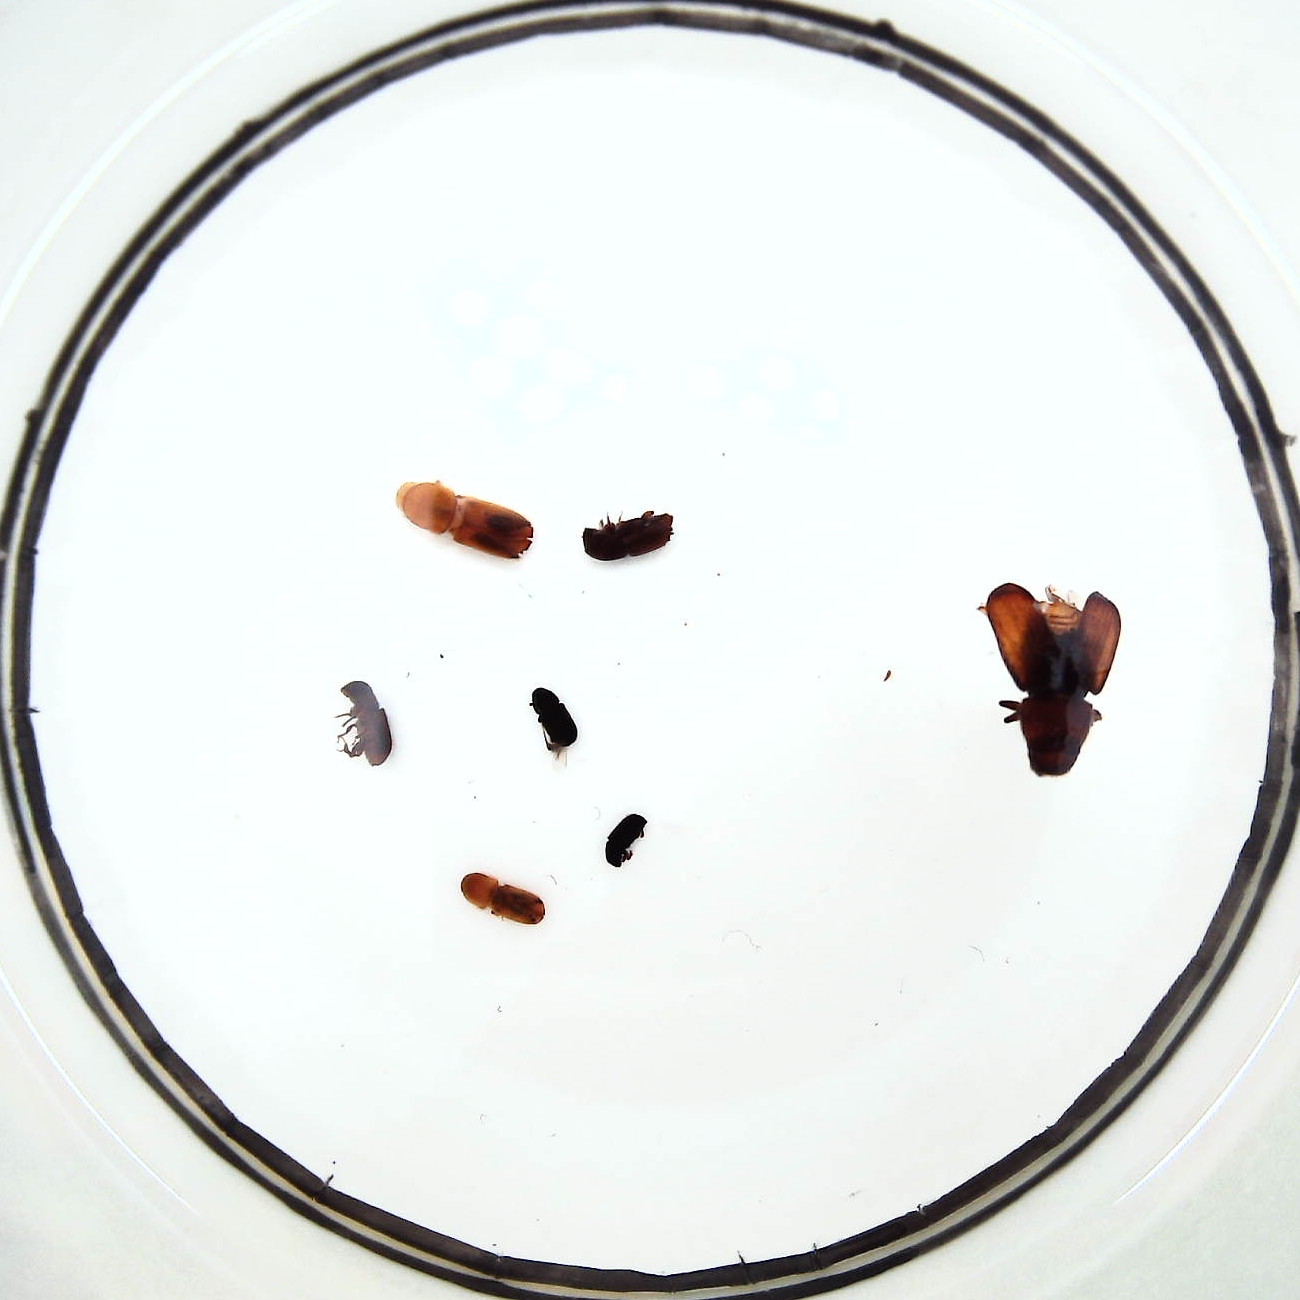Boerner: (393, 479, 537, 562)
Leconte: (986, 581, 1121, 777)
Linnaeus: (580, 510, 674, 560)
acuminatus: (457, 871, 546, 926)
armandi: (337, 680, 392, 768)
coleoptera: (529, 687, 577, 754), (604, 811, 644, 865)
